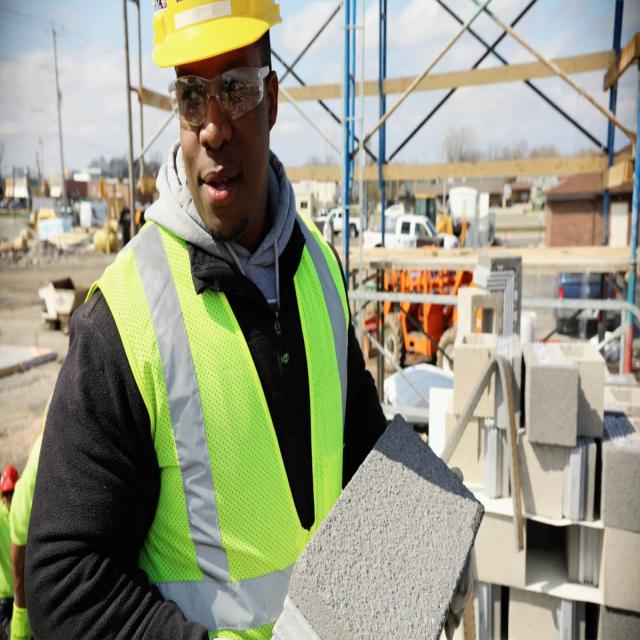Reflective-Jacket: (92, 205, 356, 634)
Safety-Helmet: (147, 0, 285, 77)
